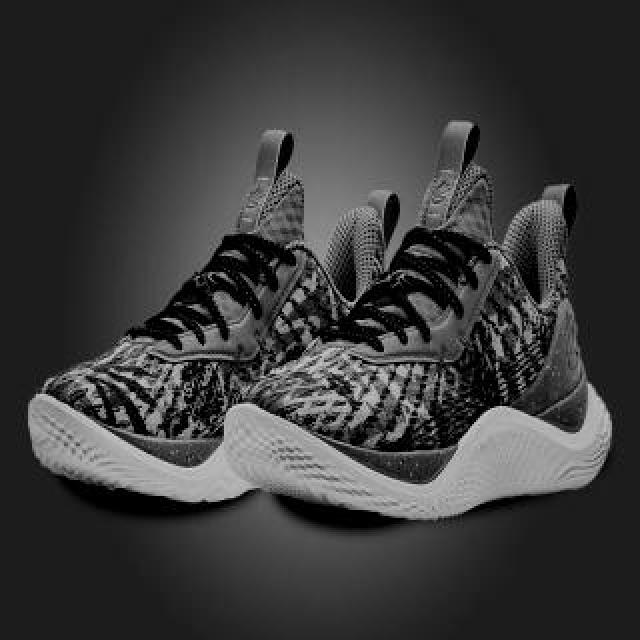shoe: (227, 131, 613, 523), (31, 129, 407, 507)
